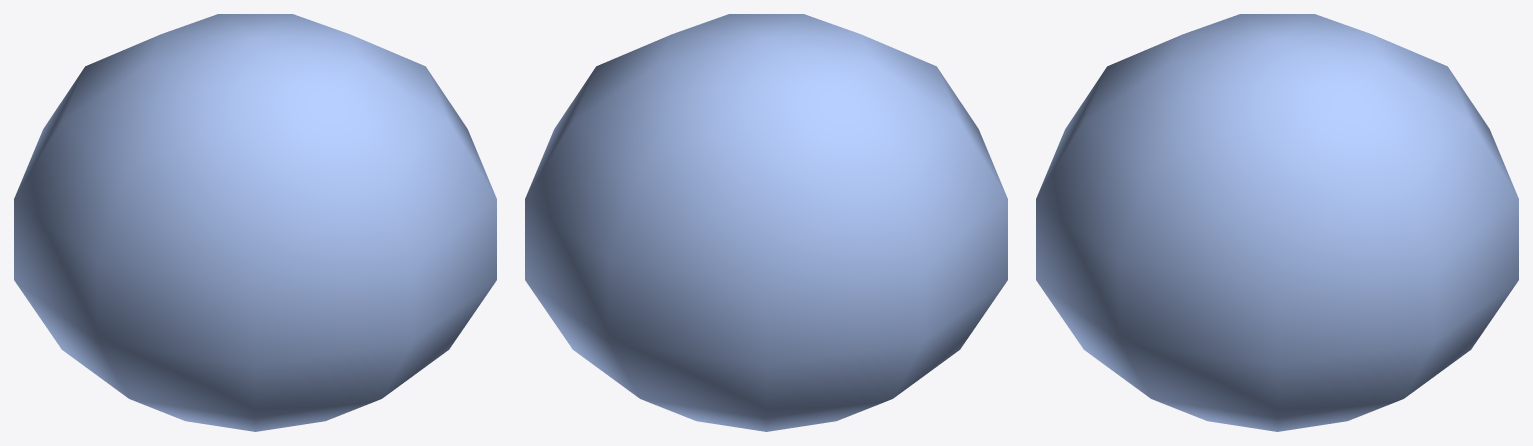
Rendered from shardlet_stage1.obj.
3 views of the same model, side by side, from view 1: azimuth 30°, elevation 25°; view 2: azimuth 150°, elevation 25°; view 3: azimuth 270°, elevation 25° (orthographic).
Bounding box in the file's own units: 1.23 × 1.04 × 1.25.
